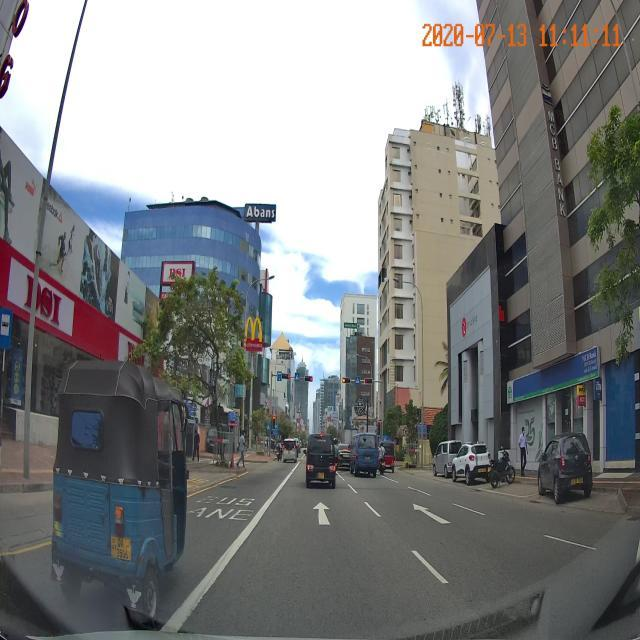forward: (247, 501, 388, 525)
